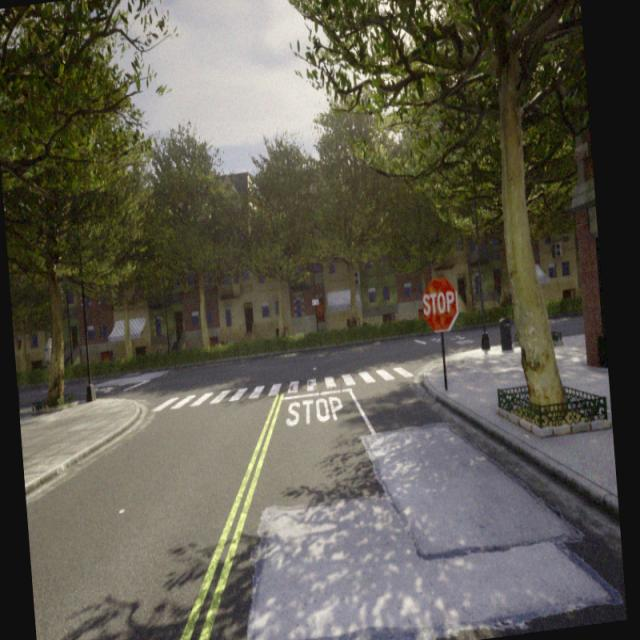stop sign: (419, 273, 460, 334), (422, 288, 456, 317)
